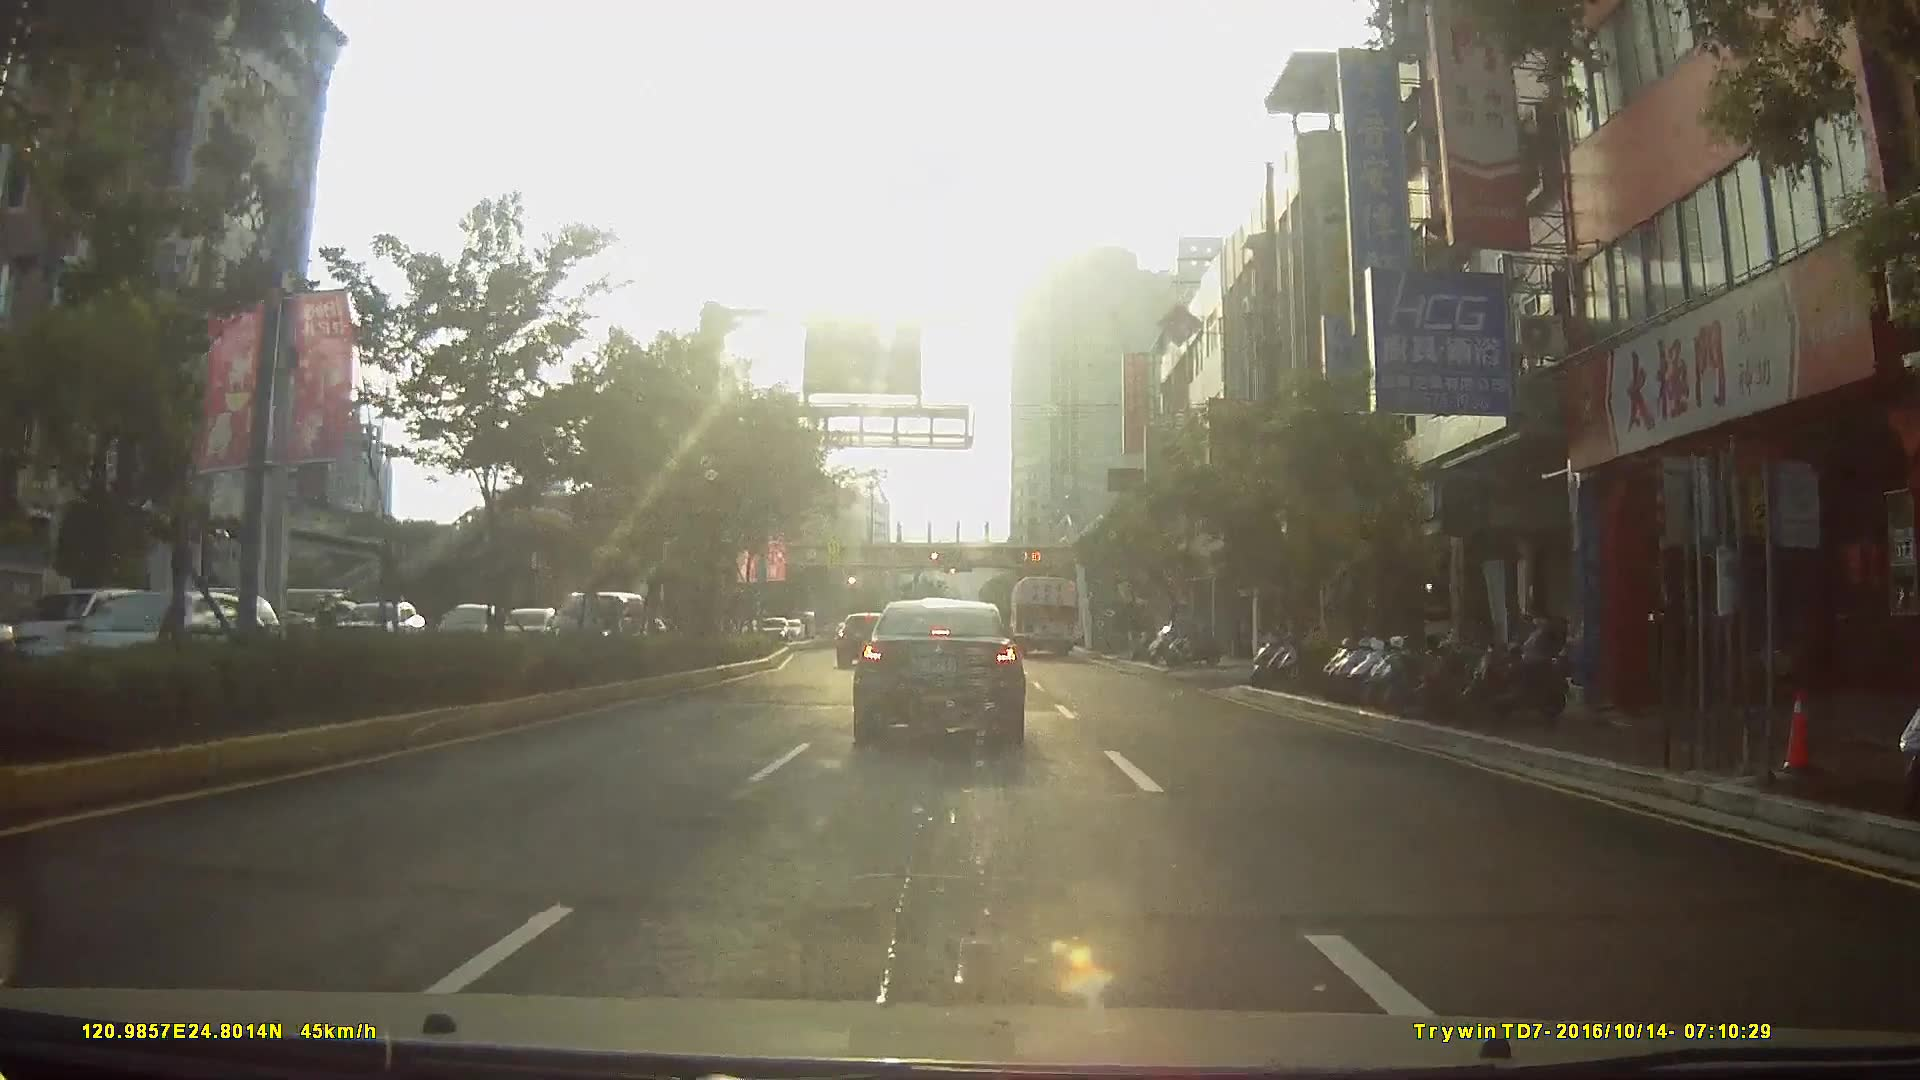vehicle: (25, 585, 289, 696), (851, 588, 1025, 742), (21, 584, 150, 661), (165, 592, 273, 659), (549, 589, 653, 654), (1006, 574, 1080, 659), (833, 609, 891, 665), (754, 612, 789, 640)
